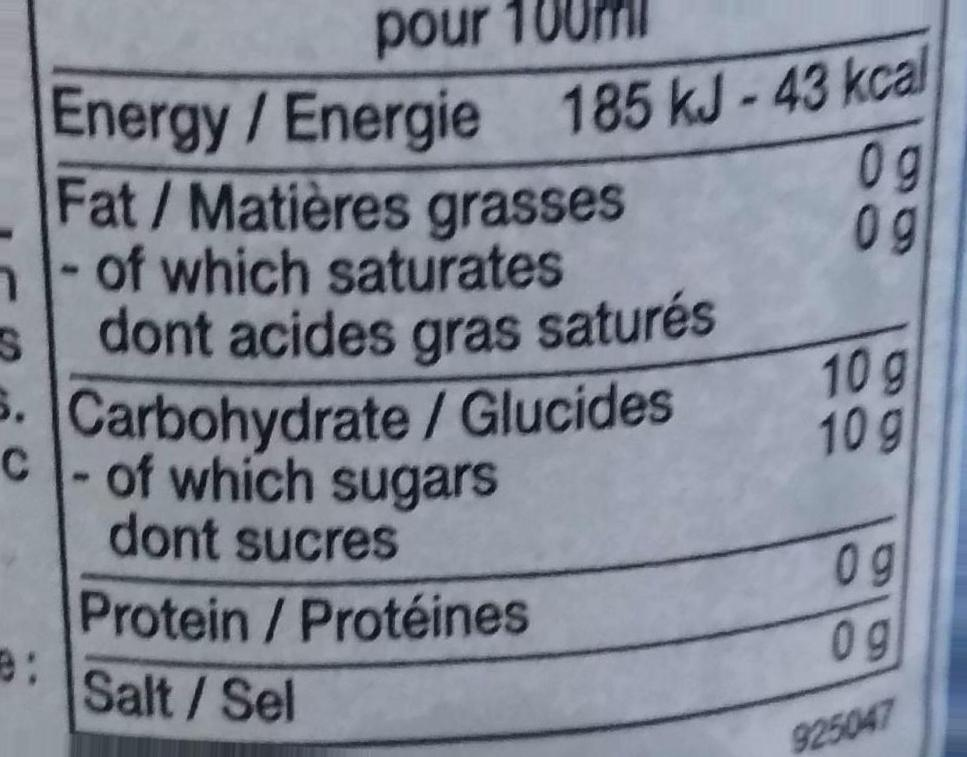column: (59, 80, 724, 730), (775, 46, 930, 671)
line: (71, 353, 910, 554), (60, 156, 928, 349), (76, 643, 906, 724), (56, 68, 922, 141), (75, 565, 908, 637)
table: (35, 1, 932, 744)
